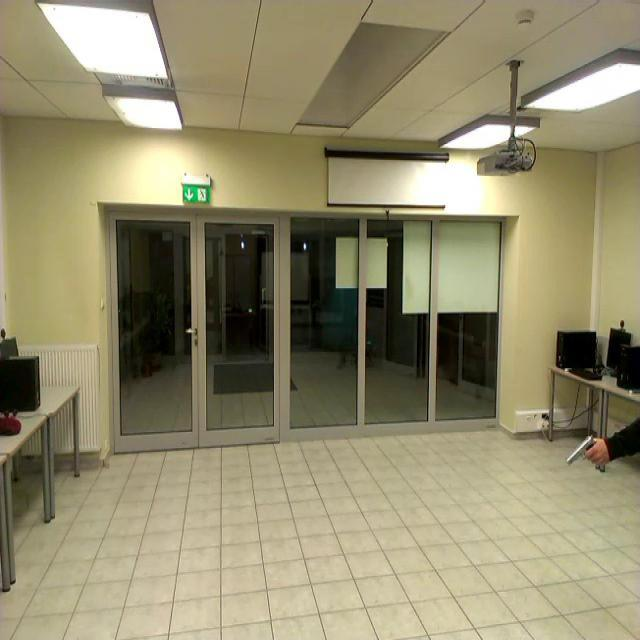weapon: (566, 438, 606, 474)
